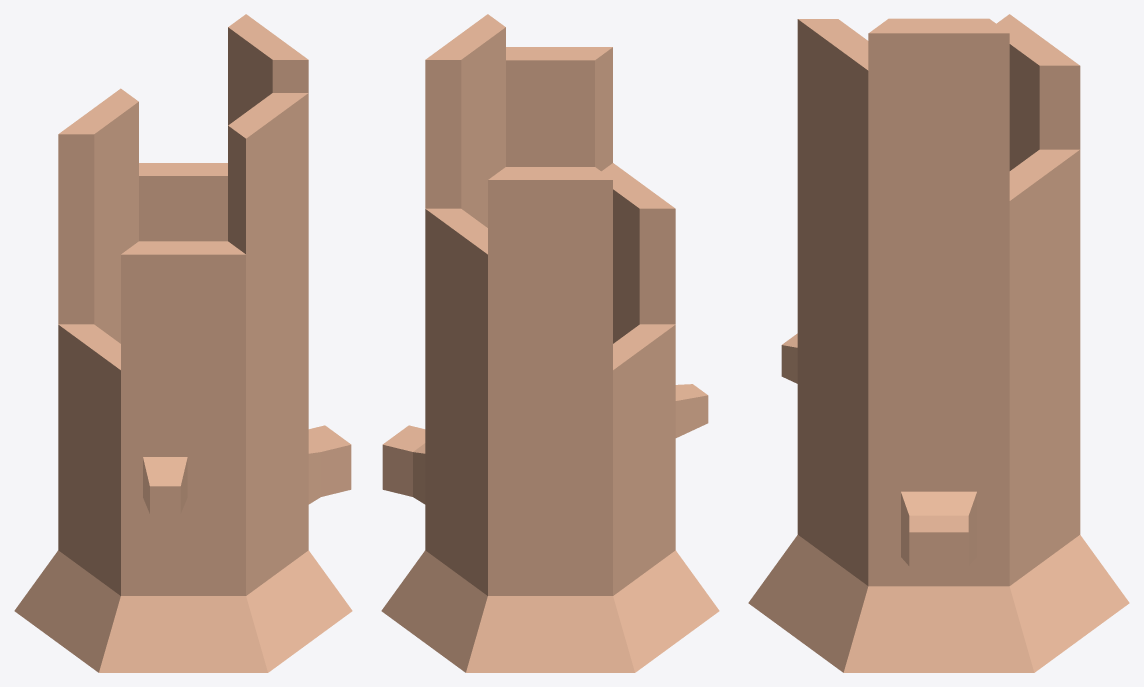
Rendered from stump_oldTall.glb.
3 views of the same model, side by side, from view 1: azimuth 30°, elevation 25°; view 2: azimuth 150°, elevation 25°; view 3: azimuth 270°, elevation 25° (orthographic). The views are drawn at different scales.
Visible parts, largest first — view 1: stump_oldTall; view 2: stump_oldTall; view 3: stump_oldTall.
Boxes of the visible parts, box(x1,y1,x2,y2) form: stump_oldTall: box(14, 14, 352, 672); stump_oldTall: box(381, 14, 719, 672); stump_oldTall: box(748, 14, 1129, 672).
Size of the model in its own units: 0.3565 by 0.6665 by 0.371.
